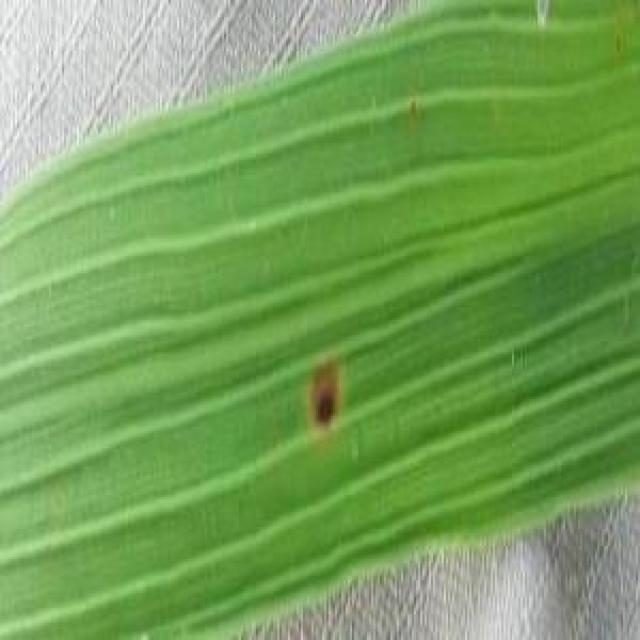Brown_Spot: (294, 346, 354, 435)
